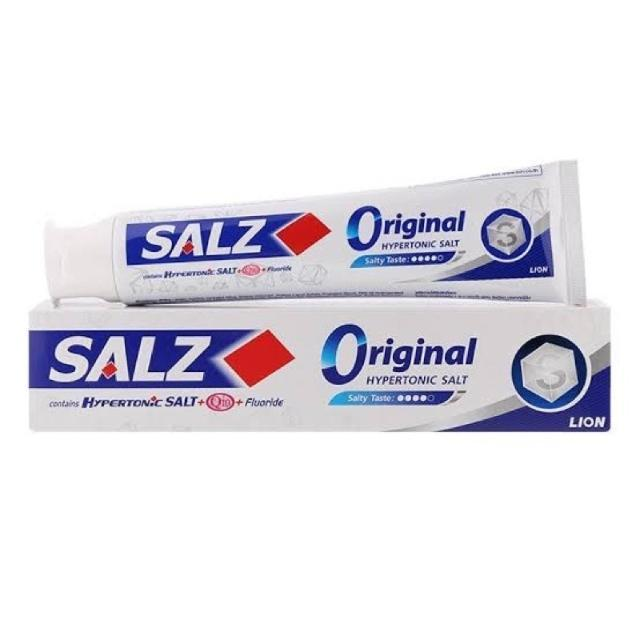Squeeze Tube: (24, 127, 598, 330)
